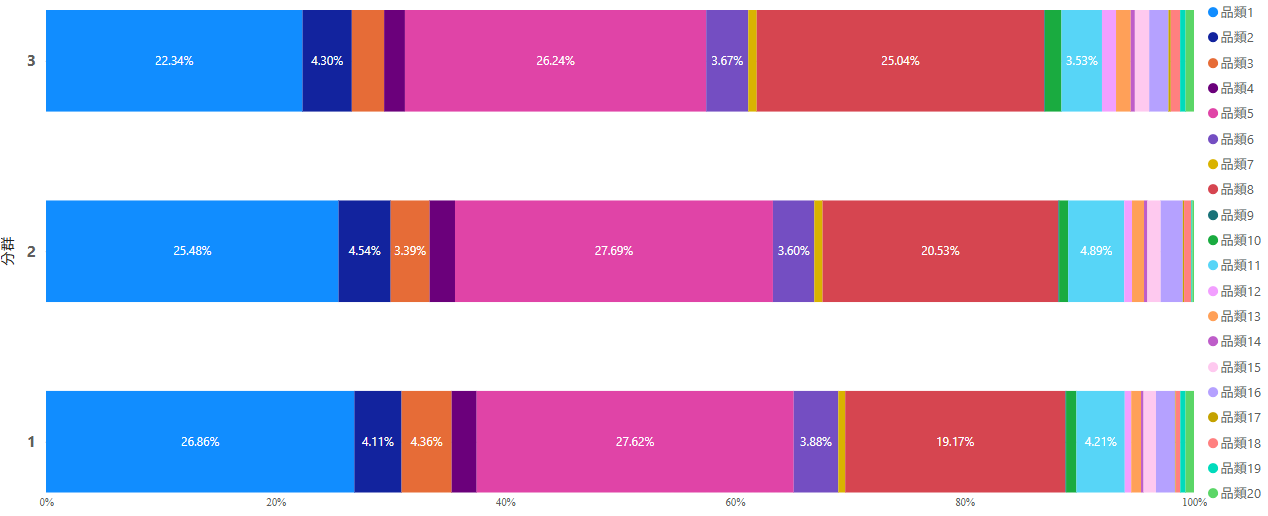

Layout of this report page (visuals, bound fields, positions):
{"tool":"powerbi","page":{"name":"各分群的品類偏好","canvas":[1280,720],"ordinal":3},"visuals":[{"type":"hundredPercentStackedBarChart","fields":{"Category":["K-prototypes-分群.Cluster"],"Y":["K-prototypes 分群.品類1","K-prototypes 分群.品類2","K-prototypes 分群.品類3","K-prototypes 分群.品類4","K-prototypes 分群.品類5","K-prototypes 分群.品類6","K-prototypes 分群.品類7","K-prototypes 分群.品類8","K-prototypes 分群.品類9","K-prototypes 分群.品類10","K-prototypes 分群.品類11","K-prototypes 分群.品類12"]},"box":[0,0,1280,527.5],"z":0}]}

Visuals, with their boxes on the page's 1280x720 design canvas (x1, y1, x2, y2). These are canvas units, not pixel positions in the 1268x516 screenshot, which may show the page scaled, cropped or inside an application window:
hundredPercentStackedBarChart - K-prototypes-分群.Cluster x K-prototypes 分群.品類1: [left=0, top=0, right=1280, bottom=528]
